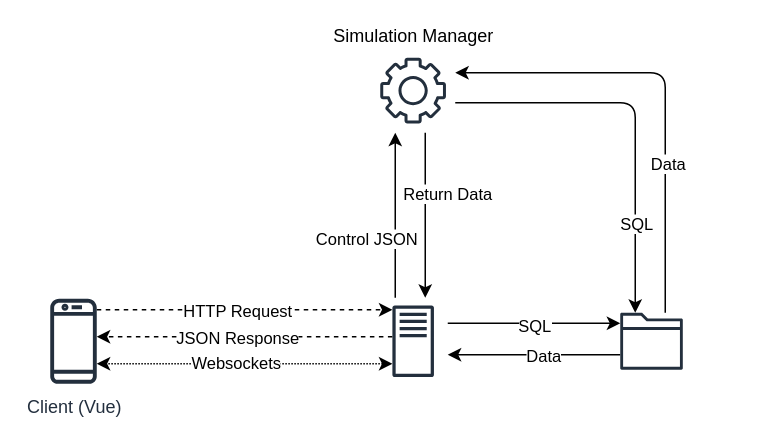
This 759x443 diagram has some shape labels left out. The centre of each missing label's shape, as x and y in pixels:
Database (Postgres): (x=651, y=340)
Web Server (Asp.NET): (x=412, y=340)
